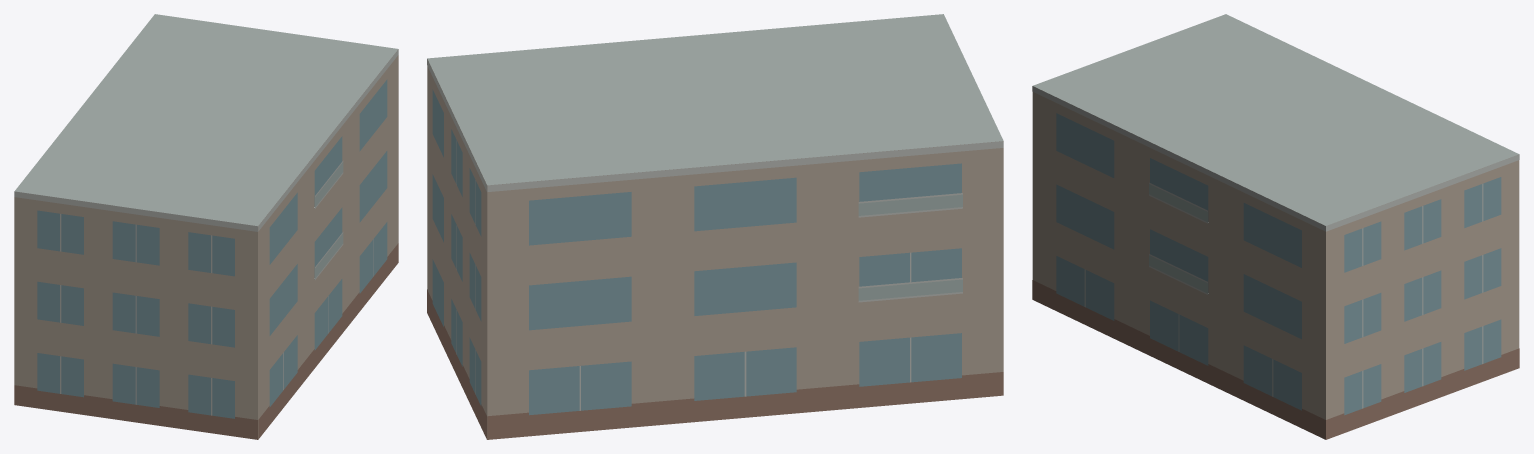
Rendered from survey-upis-32627320.glb.
The picture shows the model from 3 angles, left to right: view 1: azimuth 30°, elevation 25°; view 2: azimuth 150°, elevation 25°; view 3: azimuth 270°, elevation 25°; orthographic projection. The views are drawn at different scales.
Parts seen in each view (by area): view 1: survey-upis-32627320.tmp; view 2: survey-upis-32627320.tmp; view 3: survey-upis-32627320.tmp.
Part boxes in pixels (<box>): survey-upis-32627320.tmp: <box>14,14,398,439</box>; survey-upis-32627320.tmp: <box>427,14,1003,439</box>; survey-upis-32627320.tmp: <box>1032,14,1519,439</box>.
Bounding box in the file's own units: 19.47 × 9.15 × 18.89.
